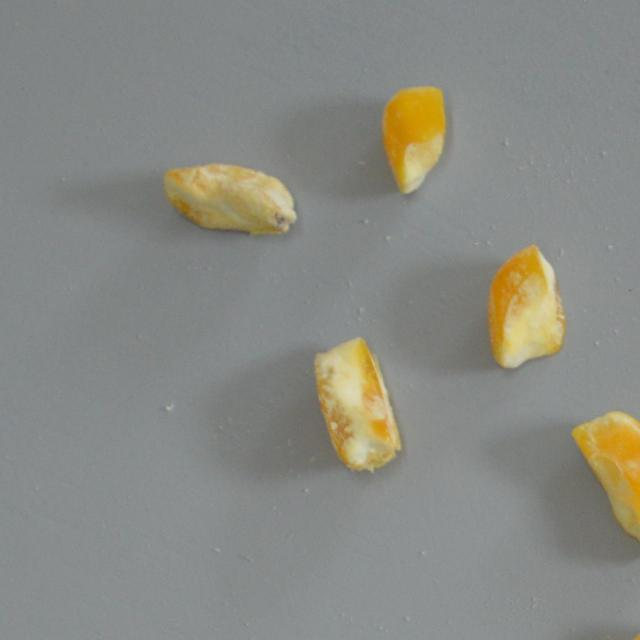dañado: (308, 330, 404, 479), (564, 406, 640, 568), (161, 154, 300, 240), (485, 242, 568, 374), (377, 78, 448, 200)
